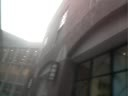window: (109, 18, 125, 45), (116, 75, 128, 96), (50, 42, 63, 61), (72, 35, 81, 57), (71, 78, 82, 96), (49, 79, 57, 96)
